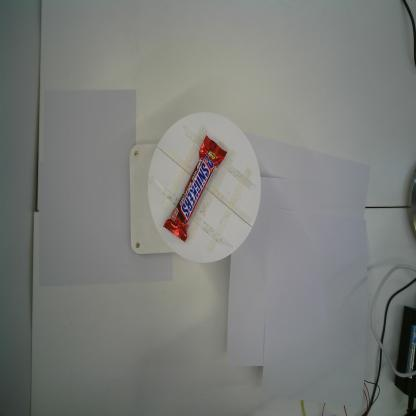Chocolate: (162, 134, 228, 244)
